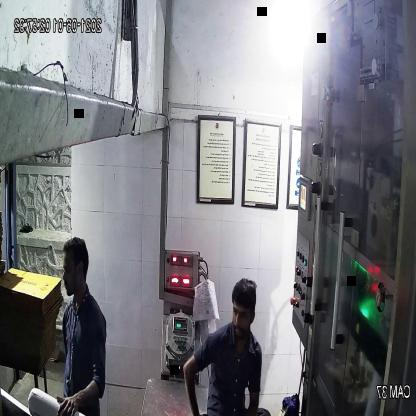no_goggles: (230, 304, 256, 324)
